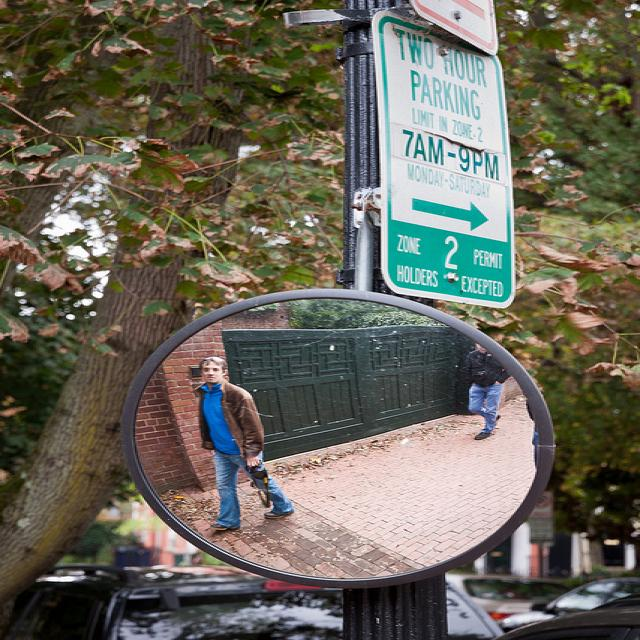Vehicle: (0, 564, 501, 640), (499, 576, 640, 640), (442, 573, 574, 620)
